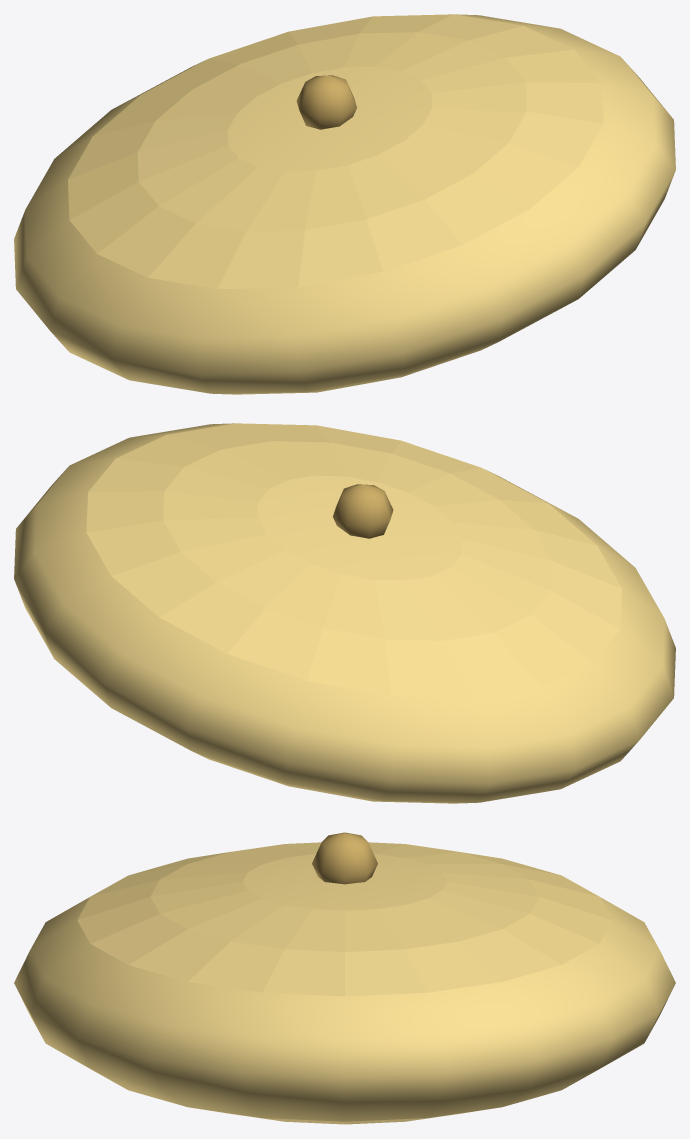
Rendered from Acc_Beret.fbx.
3 views of the same model, one above another, from view 1: azimuth 30°, elevation 25°; view 2: azimuth 150°, elevation 25°; view 3: azimuth 270°, elevation 25° (orthographic). The views are drawn at different scales.
Visible parts, largest first — view 1: Beret, Beret_Nub; view 2: Beret, Beret_Nub; view 3: Beret, Beret_Nub.
Boxes of the visible parts, x1,y1,x2,y2 form: Beret: (14,14,675,394); Beret_Nub: (296,75,356,129); Beret: (14,423,675,803); Beret_Nub: (333,484,393,538); Beret: (14,842,675,1124); Beret_Nub: (312,832,377,884).
Bounding box in the file's own units: 65 × 25.34 × 60.
